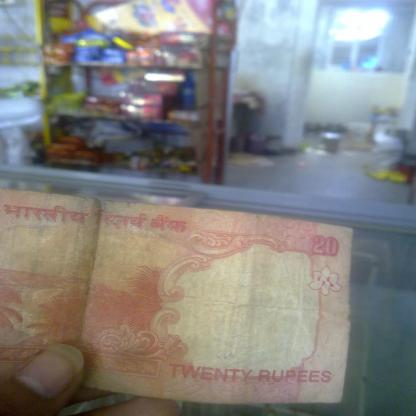Old20Back: (0, 188, 357, 405)
